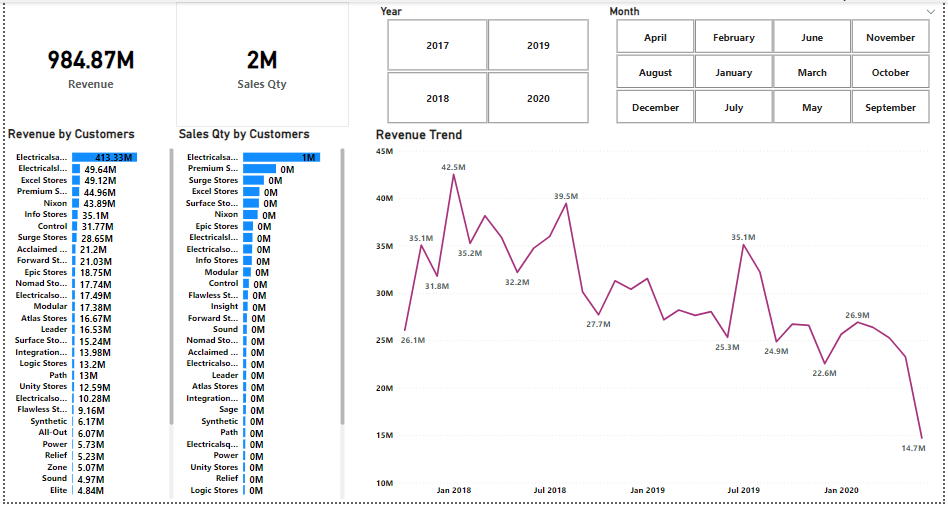

What the dashboard file says about the page in this screenshot:
{"tool":"powerbi","page":{"name":"Revenue Trend Over the years","canvas":[1650,880],"ordinal":0},"visuals":[{"type":"card","fields":{"Values":["BaseMeasures.Revenue"]},"box":[0,0,301.6,220],"z":0},{"type":"card","fields":{"Values":["BaseMeasures.Sales Qty"]},"box":[301.6,0,303.4,220],"z":1},{"type":"barChart","title":"Revenue by Customers","fields":{"Category":["sales customers.custmer_name"],"Y":["BaseMeasures.Revenue"]},"box":[0,220,301.6,660],"z":2},{"type":"barChart","title":"Sales Qty by Customers","fields":{"Category":["sales customers.custmer_name"],"Y":["BaseMeasures.Sales Qty"]},"box":[301.6,220,301.6,660],"z":3},{"type":"slicer","fields":{"Values":["sales date.year"]},"box":[647.6,0,402.7,220],"z":4},{"type":"slicer","fields":{"Values":["sales date.month_name"]},"box":[1050.3,0,599.7,220],"z":5},{"type":"lineChart","title":"Revenue Trend","fields":{"Y":["BaseMeasures.Revenue"],"Category":["sales date.cy_date","sales date.cy_date.Variation.Date Hierarchy.Year","sales date.cy_date.Variation.Date Hierarchy.Month"]},"box":[647.6,220,1002.4,660],"z":6}]}

Visuals, with their boxes in screenshot pixels (x1, y1, x2, y2), scaled from the page's 1650x880 canvas onto the 948x508 screenshot:
card - BaseMeasures.Revenue: {"left": 0, "top": 0, "right": 173, "bottom": 127}
card - BaseMeasures.Sales Qty: {"left": 173, "top": 0, "right": 348, "bottom": 127}
"Revenue by Customers" barChart: {"left": 0, "top": 127, "right": 173, "bottom": 507}
"Sales Qty by Customers" barChart: {"left": 173, "top": 127, "right": 347, "bottom": 507}
slicer - sales date.year: {"left": 372, "top": 0, "right": 603, "bottom": 127}
slicer - sales date.month_name: {"left": 603, "top": 0, "right": 947, "bottom": 127}
"Revenue Trend" lineChart: {"left": 372, "top": 127, "right": 947, "bottom": 507}
